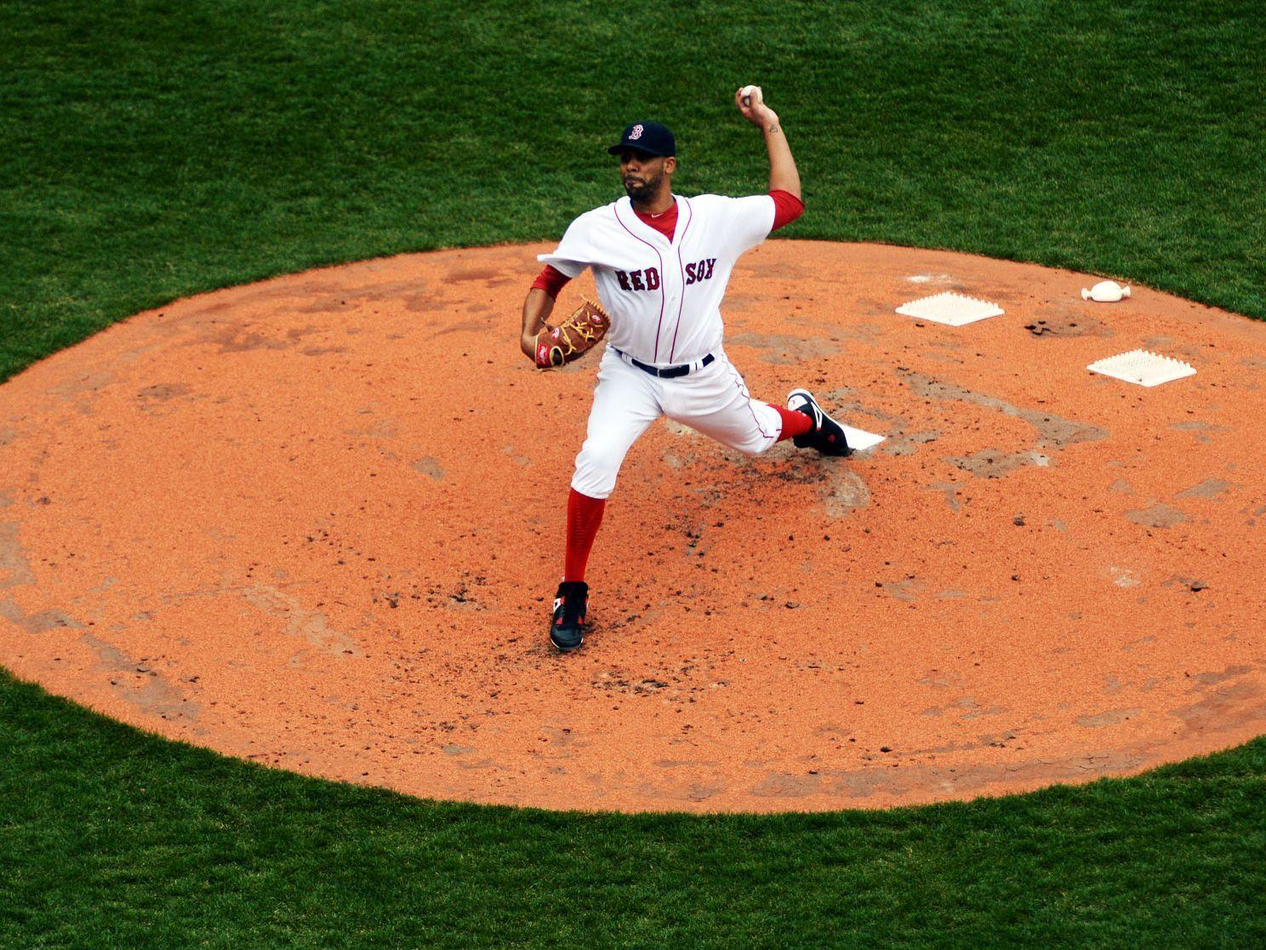baseball: (742, 87, 767, 104)
